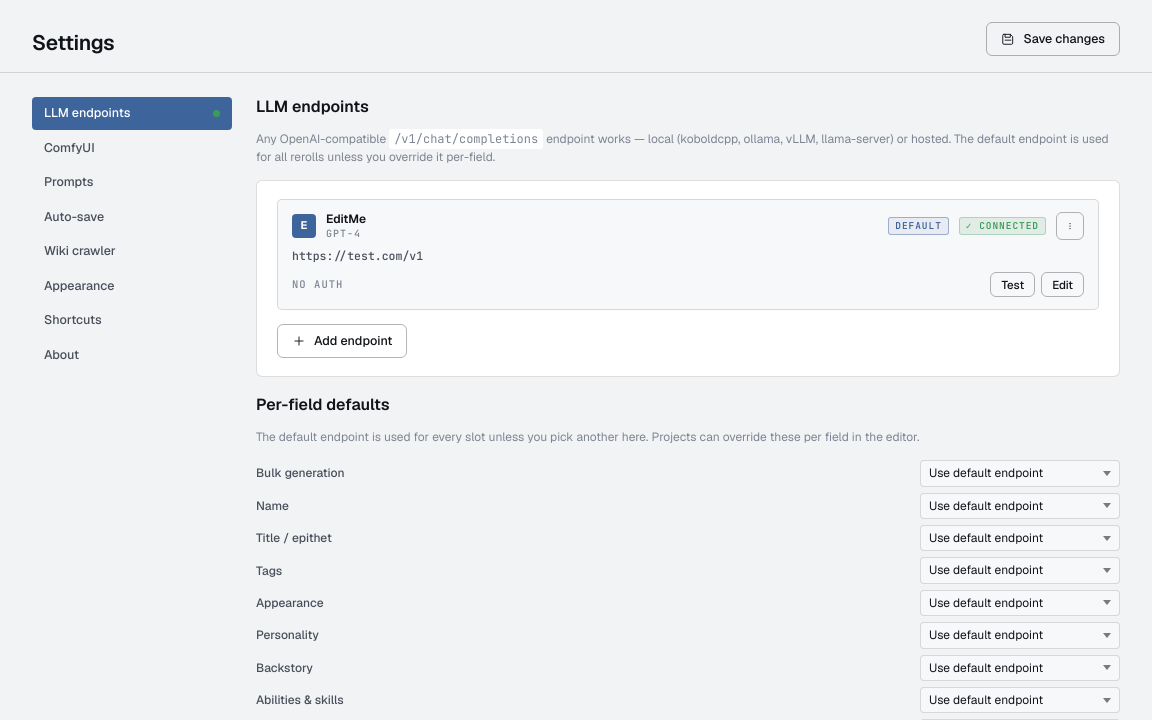
SettingsScreen › opens flyout in edit mode on "Edit" click
Click the button "Edit": (1063, 285) [1041,272,1084,297]
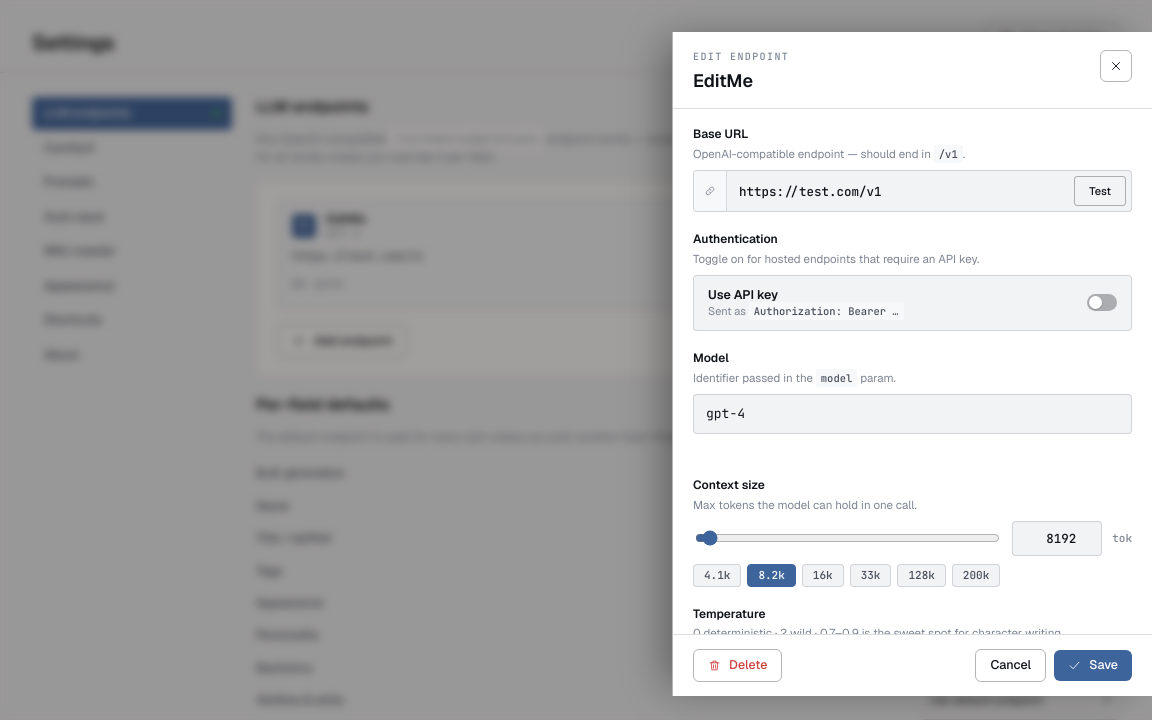
Check: the text "Edit endpoint" is shown, box [693,50,789,63]
